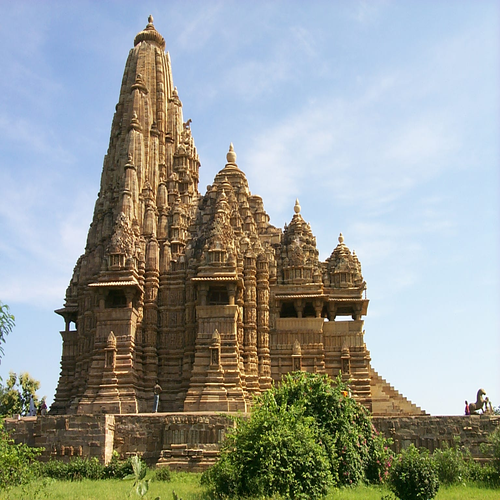Temple: (67, 11, 384, 426)
